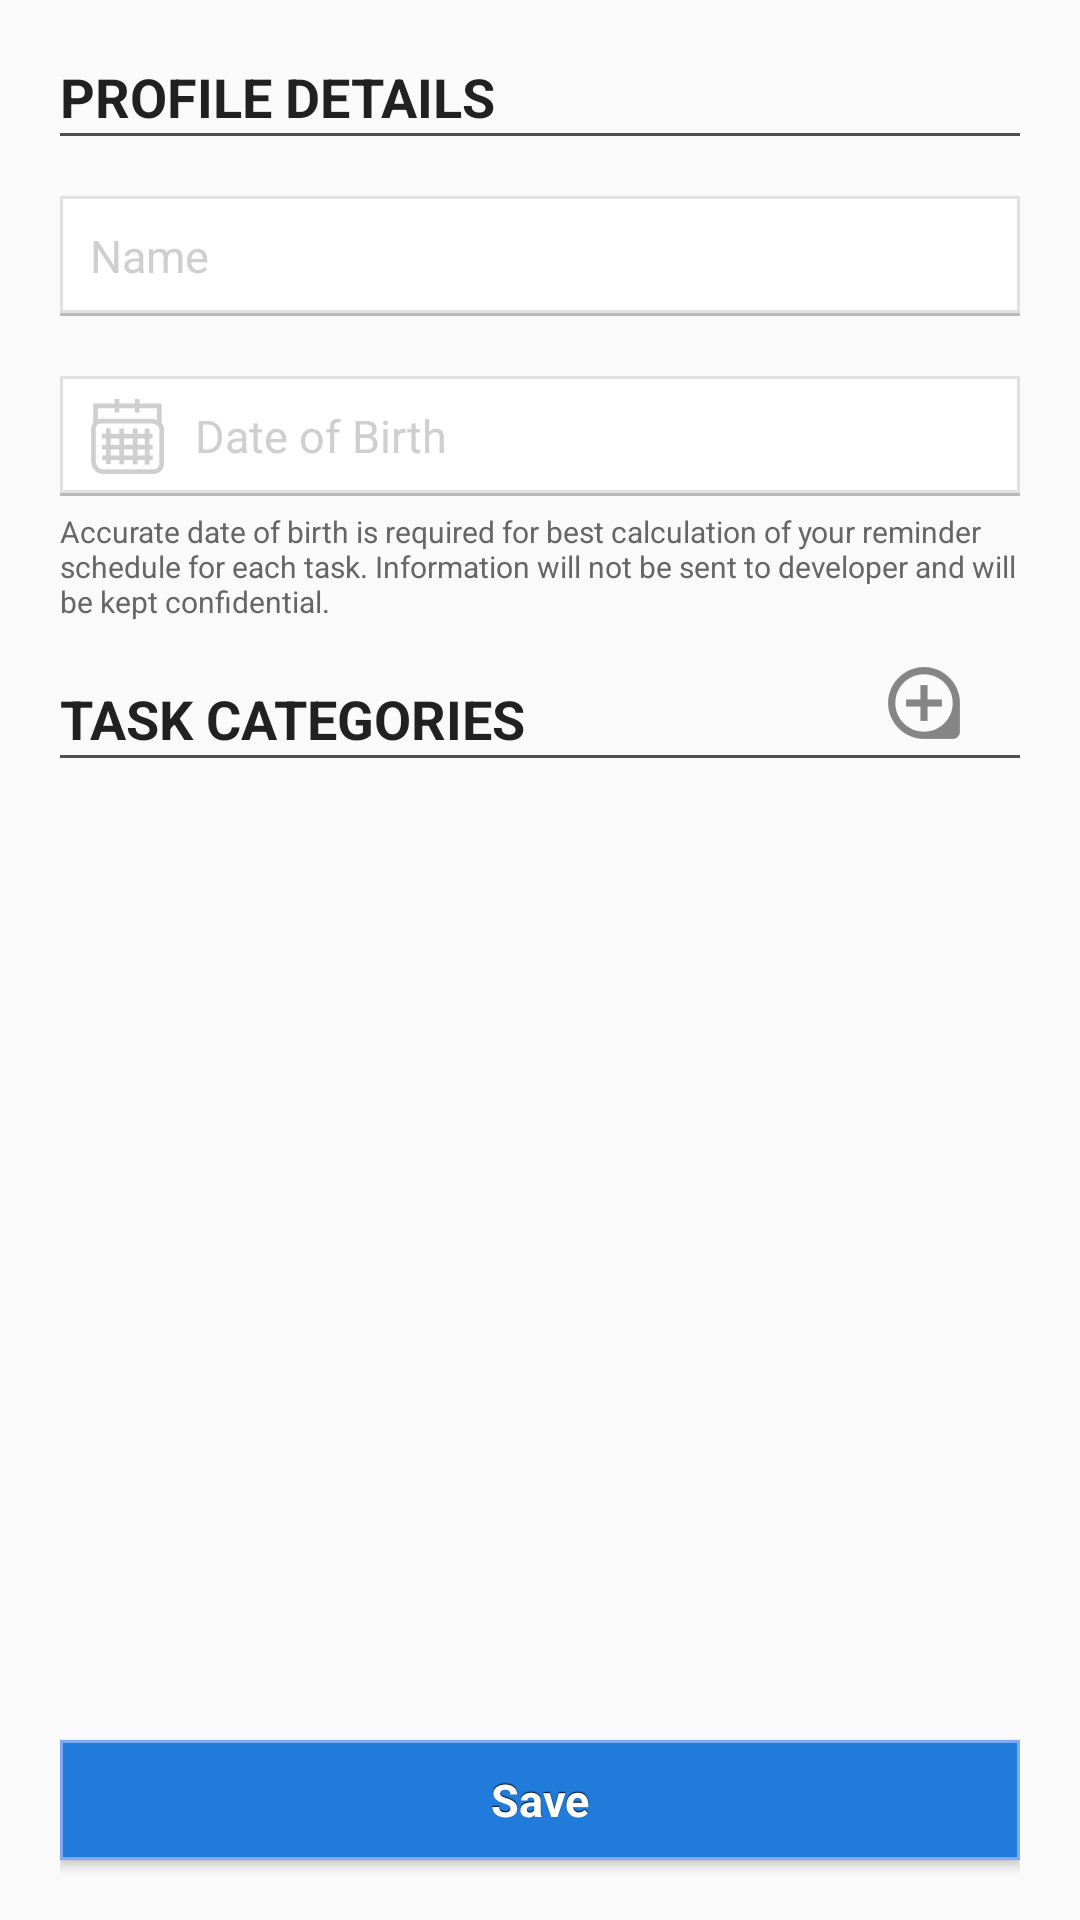

Screen size 1080x1920. Icon name, then its center in pixels as point (x, y):
add cat: point (924, 703)
